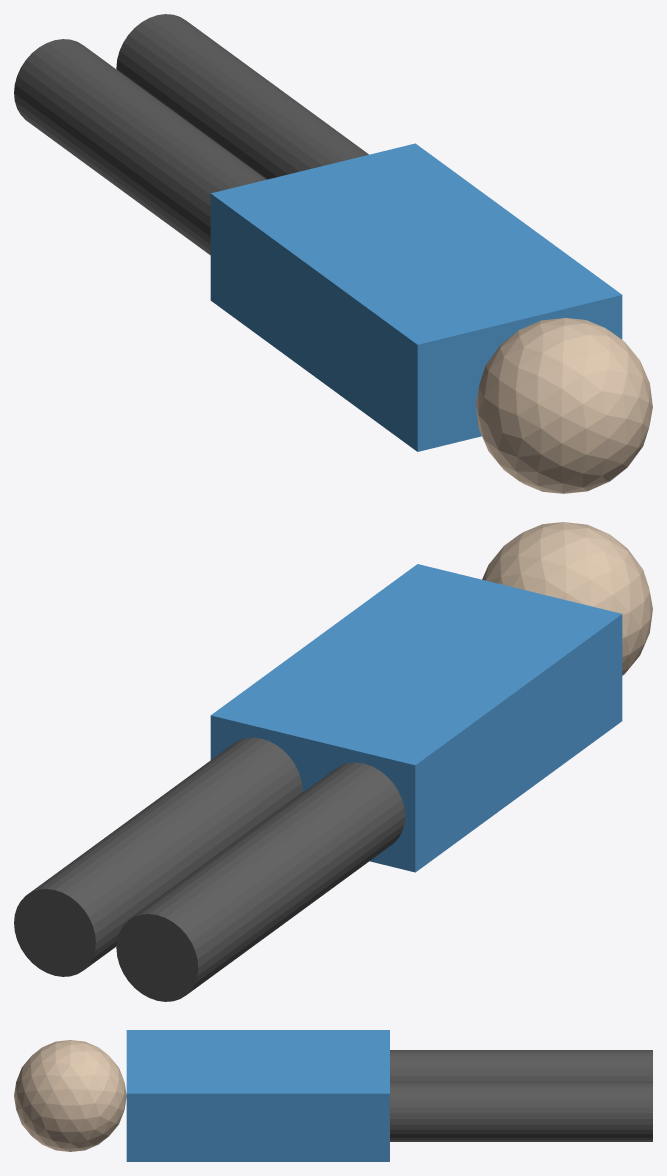
The model's file is person.glb.
3 views of the same model, one above another, from view 1: azimuth 30°, elevation 25°; view 2: azimuth 150°, elevation 25°; view 3: azimuth 270°, elevation 25° (orthographic). The views are drawn at different scales.
Parts seen in each view (by area): view 1: geometry_0; view 2: geometry_0; view 3: geometry_0.
Boxes of the visible parts, left/top/right/bottom form: geometry_0: left=14, top=14, right=652, bottom=493; geometry_0: left=14, top=522, right=652, bottom=1001; geometry_0: left=14, top=1030, right=652, bottom=1161.
Bounding box in the file's own units: 0.4 × 0.3 × 1.7.
